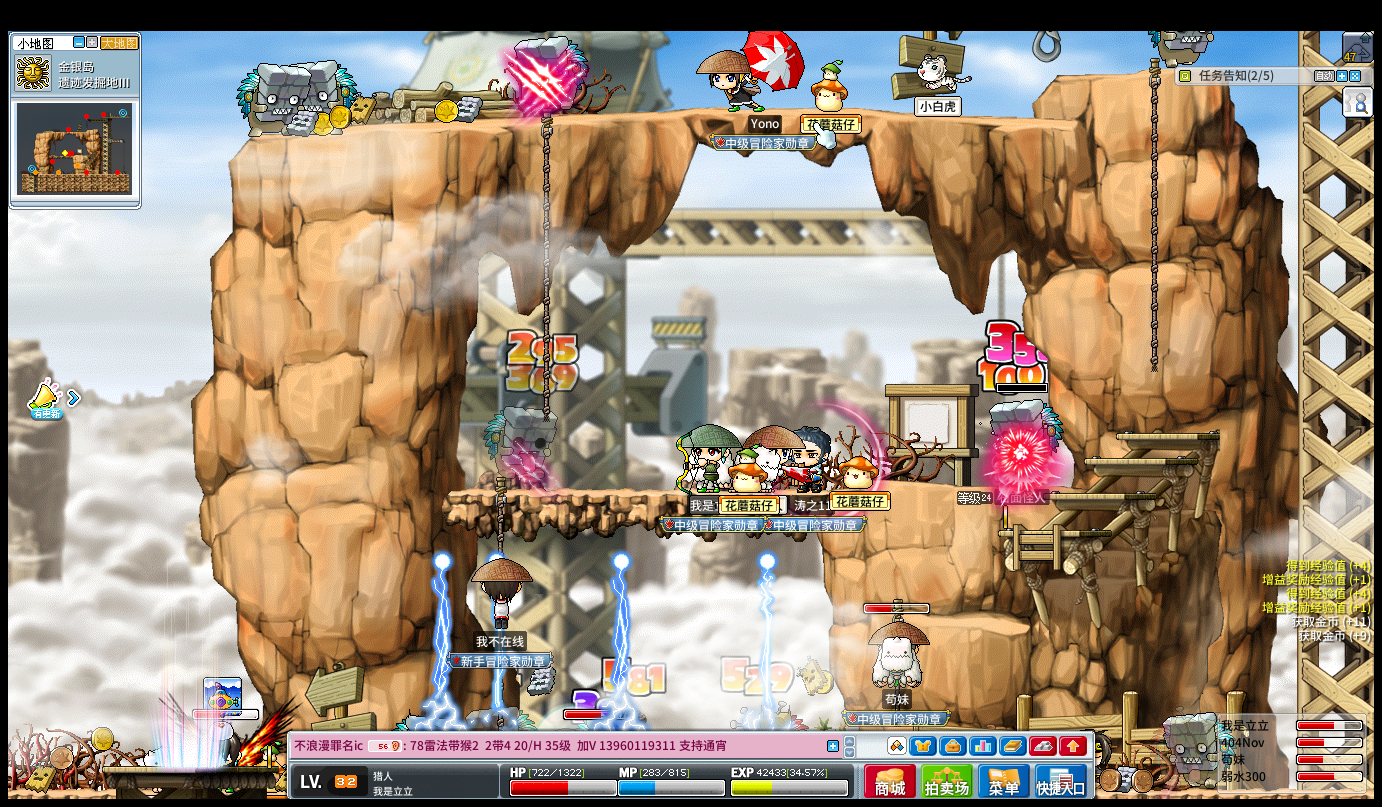floor: (241, 105, 1081, 136), (446, 489, 779, 500), (1056, 65, 1177, 83), (927, 613, 1029, 634), (1115, 429, 1220, 441), (992, 528, 1110, 537), (1080, 456, 1197, 464), (1045, 492, 1157, 499)
monster: (513, 32, 588, 115), (483, 405, 553, 488), (1164, 711, 1233, 786), (237, 63, 305, 138), (989, 400, 1062, 462), (308, 60, 357, 135)
rope: (1146, 57, 1163, 370), (540, 109, 553, 419), (492, 480, 505, 560)
